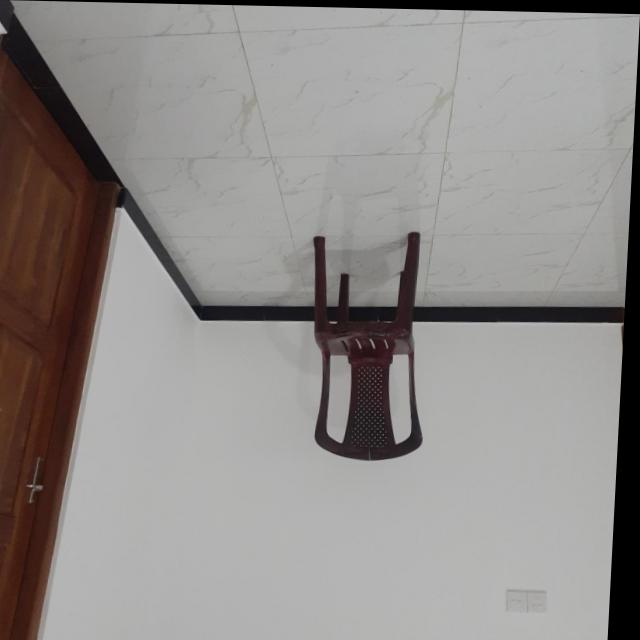Chair: (308, 230, 436, 464)
